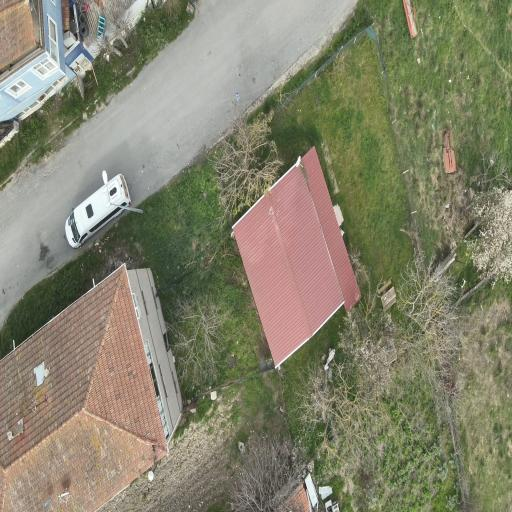car: (66, 172, 130, 247)
